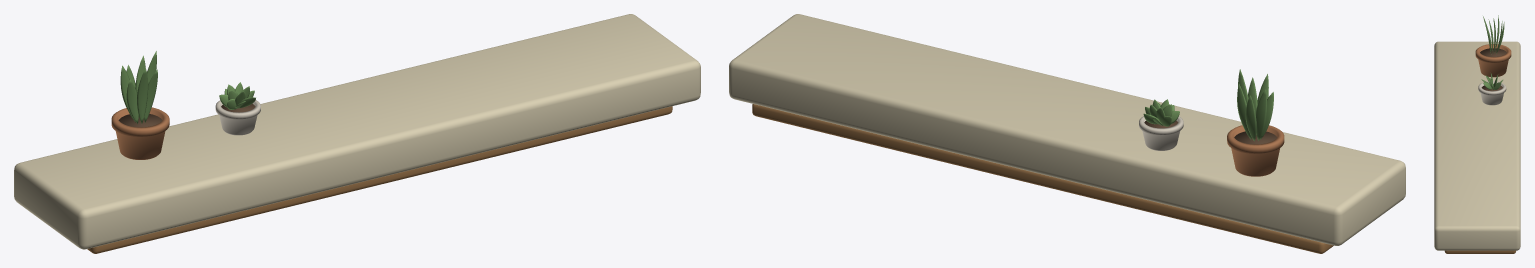
Rendered from windowsill.glb.
The picture shows the model from 3 angles, left to right: view 1: azimuth 30°, elevation 25°; view 2: azimuth 150°, elevation 25°; view 3: azimuth 270°, elevation 25°; orthographic projection. The views are drawn at different scales.
Parts seen in each view (by area): view 1: sill_board, wood_support_trim, terracotta_pot, white_pot, snake_plant_leaf_2; view 2: sill_board, wood_support_trim, terracotta_pot, white_pot, snake_plant_leaf_4; view 3: sill_board, terracotta_pot, white_pot, wood_support_trim, terracotta_pot_soil, snake_plant_leaf_4, snake_plant_leaf_6, snake_plant_leaf_1, snake_plant_leaf_0, snake_plant_leaf_3.
Part boxes in pixels (x1=…): sill_board: x1=14, y1=14, x2=700, y2=249; wood_support_trim: x1=87, y1=106, x2=672, y2=253; terracotta_pot: x1=111, y1=107, x2=169, y2=159; white_pot: x1=215, y1=100, x2=260, y2=135; snake_plant_leaf_2: x1=137, y1=68, x2=148, y2=123; sill_board: x1=729, y1=14, x2=1405, y2=245; wood_support_trim: x1=752, y1=104, x2=1333, y2=253; terracotta_pot: x1=1227, y1=125, x2=1284, y2=176; white_pot: x1=1139, y1=116, x2=1183, y2=150; snake_plant_leaf_4: x1=1255, y1=89, x2=1266, y2=140; sill_board: x1=1434, y1=41, x2=1520, y2=250; terracotta_pot: x1=1475, y1=44, x2=1511, y2=77; white_pot: x1=1478, y1=81, x2=1506, y2=105; wood_support_trim: x1=1444, y1=250, x2=1515, y2=253; terracotta_pot_soil: x1=1480, y1=48, x2=1506, y2=56; snake_plant_leaf_4: x1=1495, y1=15, x2=1499, y2=51; snake_plant_leaf_6: x1=1496, y1=21, x2=1502, y2=53; snake_plant_leaf_1: x1=1485, y1=23, x2=1491, y2=54; snake_plant_leaf_0: x1=1493, y1=18, x2=1495, y2=53; snake_plant_leaf_3: x1=1488, y1=19, x2=1493, y2=51.
Size of the model in its own units: 1.8 by 0.42 by 0.35.
